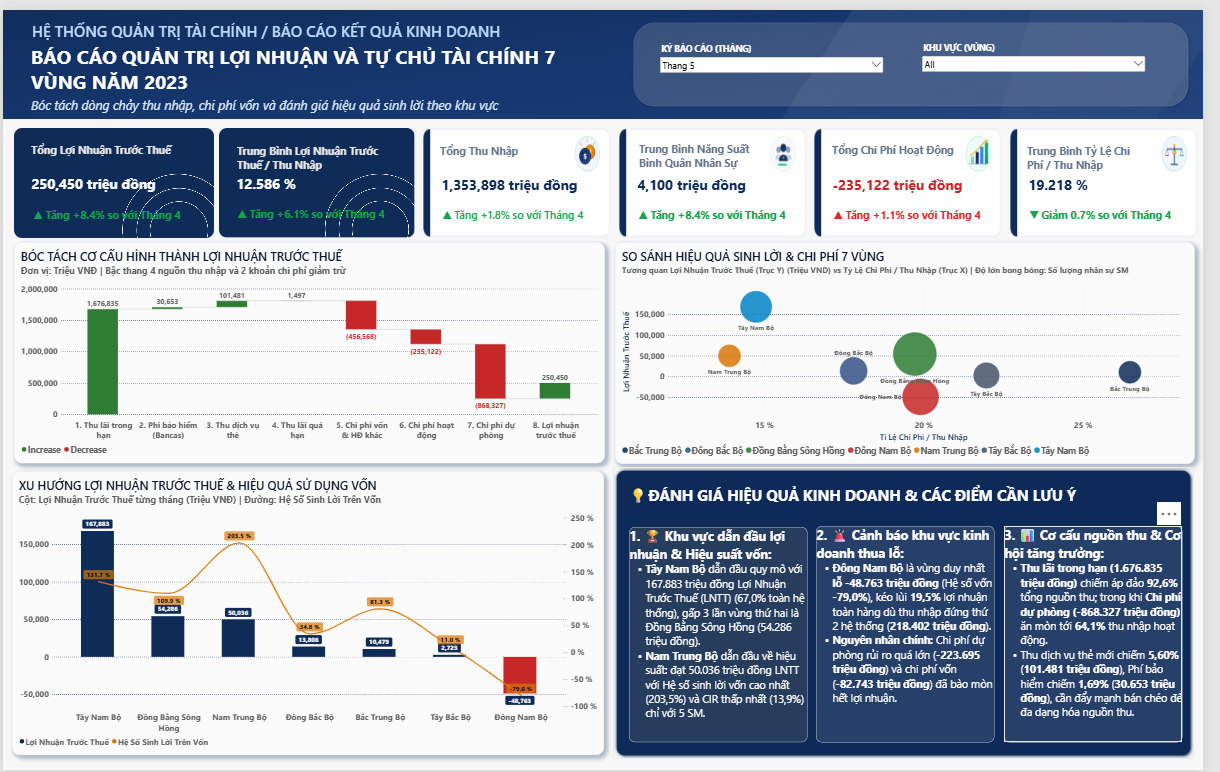

This screenshot's page, from the dashboard's own definition file:
{"tool":"powerbi","page":{"name":"KẾT QUẢ KINH DOANH","canvas":[3000,1900],"ordinal":2},"visuals":[{"type":"group","id":"g1","title":"TIÊU ĐỀ","box":[0,0,3000,272.5],"z":0},{"type":"image","title":"GRAD XANH","box":[0,0,3000,272.5],"z":0,"group":"g1"},{"type":"shape","title":"SLICER","box":[1567.7,22.7,1404.6,227.1],"z":0,"group":"g9"},{"type":"image","box":[1040.7,285,482.1,294.4],"z":0,"group":"g5"},{"type":"image","box":[2019.6,285,482.1,294.4],"z":0,"group":"g3"},{"type":"image","box":[2509.1,285,482.1,294.4],"z":0,"group":"g4"},{"type":"image","box":[1530.1,285.6,482.1,294.4],"z":0,"group":"g2"},{"type":"group","id":"g2","title":"4","box":[1530.1,285.6,482.1,294.4],"z":0,"group":"g6"},{"type":"shape","box":[1525,1142.5,1452.5,730],"z":0,"group":"g10"},{"type":"group","id":"g3","title":"5","box":[2019.6,285,482.1,294.4],"z":125,"group":"g6"},{"type":"group","id":"g4","title":"̉6","box":[2509.1,285,482.1,294.4],"z":250,"group":"g6"},{"type":"group","id":"g5","title":"3","box":[1040.7,285,482.1,294.4],"z":750,"group":"g6"},{"type":"textbox","box":[70,82.5,1320,145],"z":1000,"group":"g1"},{"type":"slicer","title":"THÁNG","fields":{"Values":["banking_project dim_month.ten_thang"]},"box":[1637.1,83.7,567.7,109.3],"z":1000,"group":"g9"},{"type":"group","id":"g6","title":"KPI CARD","box":[26.2,285,2965,295],"z":1000},{"type":"image","box":[1425.7,312.9,66.5,94.4],"z":1000,"group":"g5"},{"type":"image","box":[2404.6,312.9,66.5,94.4],"z":1000,"group":"g3"},{"type":"image","box":[2894.1,312.9,66.5,94.4],"z":1000,"group":"g4"},{"type":"image","box":[1915.1,313.5,66.5,94.4],"z":1000,"group":"g2"},{"type":"textbox","box":[1566,1292.8,446.3,537.8],"z":1000,"group":"g10"},{"type":"group","id":"g7","title":"1","box":[26.2,294.3,499.9,275.1],"z":1250,"group":"g6"},{"type":"group","id":"g8","title":"2","box":[537.7,294.3,488.7,273.8],"z":1750,"group":"g6"},{"type":"group","id":"g9","title":"SLICER","box":[1567.7,22.7,1404.6,227.1],"z":2000,"group":"g1"},{"type":"slicer","title":"KHU VỰC","fields":{"Values":["banking_project v_baocao_tonghop.area_name"]},"box":[2293.2,81.4,567.7,109.3],"z":2000,"group":"g9"},{"type":"textbox","box":[1588.8,328.4,314.9,72],"z":2000,"group":"g2"},{"type":"textbox","box":[2071.1,330,305,62.5],"z":2000,"group":"g3"},{"type":"textbox","box":[2559.4,332.5,275,75],"z":2000,"group":"g4"},{"type":"textbox","box":[1091.9,332.9,250,58.2],"z":2000,"group":"g5"},{"type":"waterfallChart","title":"BÓC TÁCH CƠ CẤU HÌNH THÀNH LỢI NHUẬN TRƯỚC THUẾ","fields":{"Category":["LAI LO (Visuals & DAX).KhoanMuc"],"Y":["LAI LO (Visuals & DAX).Waterfall_Value"]},"box":[28.3,580,1476.7,553.3],"z":2000},{"type":"textbox","box":[2032.5,1289.8,446.3,540.9],"z":2000,"group":"g10"},{"type":"image","box":[26.2,294.3,499.9,275.1],"z":2500,"group":"g7"},{"type":"image","box":[537.7,294.3,488.7,273.8],"z":2500,"group":"g8"},{"type":"textbox","box":[2501.5,1289.8,446.3,540.9],"z":2500,"group":"g10"},{"type":"textbox","box":[71.4,27.6,1577,55.1],"z":3000,"group":"g1"},{"type":"textbox","box":[68.7,328.6,422.5,57.5],"z":3000,"group":"g7"},{"type":"cardVisual","fields":{"Data":["Sum(banking_project v_baocao_tonghop.tong_thunhap_trieu_dong)"]},"box":[1077.7,329.5,433.7,212.5],"z":3000,"group":"g5"},{"type":"cardVisual","fields":{"Data":["Sum(banking_project v_baocao_tonghop.tong_chiphi_trieu_dong)"]},"box":[2056.6,329.5,433.7,212.5],"z":3000,"group":"g3"},{"type":"cardVisual","fields":{"Data":["Avg(banking_project v_baocao_tonghop.cir)"]},"box":[2546.1,329.5,433.7,212.5],"z":3000,"group":"g4"},{"type":"cardVisual","fields":{"Data":["Avg(banking_project v_baocao_tonghop.nsbq_trieu_dong)"]},"box":[1567.1,330.1,433.7,212.5],"z":3000,"group":"g2"},{"type":"textbox","box":[581.5,331.1,397.5,72.5],"z":3000,"group":"g8"},{"type":"scatterChart","title":"SO SÁNH HIỆU QUẢ SINH LỜI & CHI PHÍ 7 VÙNG","fields":{"Series":["banking_project v_baocao_tonghop.area_name"],"Size":["LAI LO (Visuals & DAX).BCG_SM_Count"],"X":["LAI LO (Visuals & DAX).BCG_CIR_Avg"],"Y":["LAI LO (Visuals & DAX).BCG_LNTT_Sum"]},"box":[1530,580,1449.2,555.4],"z":3000},{"type":"textbox","box":[1563.5,1187.1,1180.2,102.7],"z":3000,"group":"g10"},{"type":"textbox","box":[70.3,213.8,2555.4,53],"z":4000,"group":"g1"},{"type":"cardVisual","fields":{"Data":["LAI LO (Visuals & DAX).KPI ThuNhap MoM Text"]},"box":[1080,464.9,411.8,94.8],"z":4000,"group":"g5"},{"type":"cardVisual","fields":{"Data":["LAI LO (Visuals & DAX).KPI ChiPhi MoM Text"]},"box":[2058.9,464.9,411.8,94.8],"z":4000,"group":"g3"},{"type":"cardVisual","fields":{"Data":["LAI LO (Visuals & DAX).KPI CIR MoM Text"]},"box":[2548.4,464.9,411.8,94.8],"z":4000,"group":"g4"},{"type":"cardVisual","fields":{"Data":["LAI LO (Visuals & DAX).KPI NSBQ MoM Text"]},"box":[1569.4,465.5,411.8,94.8],"z":4000,"group":"g2"},{"type":"lineClusteredColumnComboChart","title":"XU HƯỚNG LỢI NHUẬN TRƯỚC THUẾ & HIỆU QUẢ SỬ DỤNG VỐN","fields":{"Category":["banking_project v_baocao_tonghop.area_name"],"Y":["LAI LO (Visuals & DAX).Combo_LNTT_YTD"],"Y2":["LAI LO (Visuals & DAX).Combo_HsVon_Avg"]},"box":[22.5,1152.5,1480,710],"z":4000},{"type":"cardVisual","fields":{"Data":["Avg(banking_project v_baocao_tonghop.margin)"]},"box":[566.2,325.9,422.6,212],"z":5000,"group":"g8"},{"type":"cardVisual","fields":{"Data":["Sum(banking_project v_baocao_tonghop.lntt_trieu_dong)"]},"box":[54.4,326.1,418.2,213],"z":5000,"group":"g7"},{"type":"group","id":"g10","title":"NX","box":[1525,1142.5,1452.5,730],"z":5000},{"type":"cardVisual","fields":{"Data":["LAI LO (Visuals & DAX).KPI LNTT MoM Text"]},"box":[58.1,461.5,449.9,95.2],"z":7000,"group":"g7"},{"type":"cardVisual","fields":{"Data":["LAI LO (Visuals & DAX).KPI Margin MoM Text"]},"box":[568.1,461.5,447.4,92.9],"z":7000,"group":"g8"}]}

Visuals, with their boxes in screenshot pixels (x1, y1, x2, y2), scaled from the page's 3000x1900 canvas onto the 1220x772 screenshot:
"TIÊU ĐỀ" group: (x1=0, y1=0, x2=1219, y2=111)
"GRAD XANH" image: (x1=0, y1=0, x2=1219, y2=111)
"SLICER" shape: (x1=638, y1=9, x2=1209, y2=101)
image: (x1=423, y1=116, x2=619, y2=235)
image: (x1=821, y1=116, x2=1017, y2=235)
image: (x1=1020, y1=116, x2=1216, y2=235)
image: (x1=622, y1=116, x2=818, y2=236)
"4" group: (x1=622, y1=116, x2=818, y2=236)
shape: (x1=620, y1=464, x2=1211, y2=761)
"5" group: (x1=821, y1=116, x2=1017, y2=235)
"̉6" group: (x1=1020, y1=116, x2=1216, y2=235)
"3" group: (x1=423, y1=116, x2=619, y2=235)
textbox: (x1=28, y1=34, x2=565, y2=92)
"THÁNG" slicer: (x1=666, y1=34, x2=897, y2=78)
"KPI CARD" group: (x1=11, y1=116, x2=1216, y2=236)
image: (x1=580, y1=127, x2=607, y2=165)
image: (x1=978, y1=127, x2=1005, y2=165)
image: (x1=1177, y1=127, x2=1204, y2=165)
image: (x1=779, y1=127, x2=806, y2=166)
textbox: (x1=637, y1=525, x2=818, y2=744)
"1" group: (x1=11, y1=120, x2=214, y2=231)
"2" group: (x1=219, y1=120, x2=417, y2=231)
"SLICER" group: (x1=638, y1=9, x2=1209, y2=101)
"KHU VỰC" slicer: (x1=933, y1=33, x2=1163, y2=77)
textbox: (x1=646, y1=133, x2=774, y2=163)
textbox: (x1=842, y1=134, x2=966, y2=159)
textbox: (x1=1041, y1=135, x2=1153, y2=166)
textbox: (x1=444, y1=135, x2=546, y2=159)
"BÓC TÁCH CƠ CẤU HÌNH THÀNH LỢI NHUẬN TRƯỚC THUẾ" waterfallChart: (x1=12, y1=236, x2=612, y2=460)
textbox: (x1=827, y1=524, x2=1008, y2=744)
image: (x1=11, y1=120, x2=214, y2=231)
image: (x1=219, y1=120, x2=417, y2=231)
textbox: (x1=1017, y1=524, x2=1199, y2=744)
textbox: (x1=29, y1=11, x2=670, y2=34)
textbox: (x1=28, y1=134, x2=200, y2=157)
cardVisual - Sum(banking_project v_baocao_tonghop.tong_thunhap_trieu_dong): (x1=438, y1=134, x2=615, y2=220)
cardVisual - Sum(banking_project v_baocao_tonghop.tong_chiphi_trieu_dong): (x1=836, y1=134, x2=1013, y2=220)
cardVisual - Avg(banking_project v_baocao_tonghop.cir): (x1=1035, y1=134, x2=1212, y2=220)
cardVisual - Avg(banking_project v_baocao_tonghop.nsbq_trieu_dong): (x1=637, y1=134, x2=814, y2=220)
textbox: (x1=236, y1=135, x2=398, y2=164)
"SO SÁNH HIỆU QUẢ SINH LỜI & CHI PHÍ 7 VÙNG" scatterChart: (x1=622, y1=236, x2=1212, y2=461)
textbox: (x1=636, y1=482, x2=1116, y2=524)
textbox: (x1=29, y1=87, x2=1068, y2=108)
cardVisual - LAI LO (Visuals & DAX).KPI ThuNhap MoM Text: (x1=439, y1=189, x2=607, y2=227)
cardVisual - LAI LO (Visuals & DAX).KPI ChiPhi MoM Text: (x1=837, y1=189, x2=1005, y2=227)
cardVisual - LAI LO (Visuals & DAX).KPI CIR MoM Text: (x1=1036, y1=189, x2=1204, y2=227)
cardVisual - LAI LO (Visuals & DAX).KPI NSBQ MoM Text: (x1=638, y1=189, x2=806, y2=228)
"XU HƯỚNG LỢI NHUẬN TRƯỚC THUẾ & HIỆU QUẢ SỬ DỤNG VỐN" lineClusteredColumnComboChart: (x1=9, y1=468, x2=611, y2=757)
cardVisual - Avg(banking_project v_baocao_tonghop.margin): (x1=230, y1=132, x2=402, y2=219)
cardVisual - Sum(banking_project v_baocao_tonghop.lntt_trieu_dong): (x1=22, y1=132, x2=192, y2=219)
"NX" group: (x1=620, y1=464, x2=1211, y2=761)
cardVisual - LAI LO (Visuals & DAX).KPI LNTT MoM Text: (x1=24, y1=188, x2=207, y2=226)
cardVisual - LAI LO (Visuals & DAX).KPI Margin MoM Text: (x1=231, y1=188, x2=413, y2=225)
